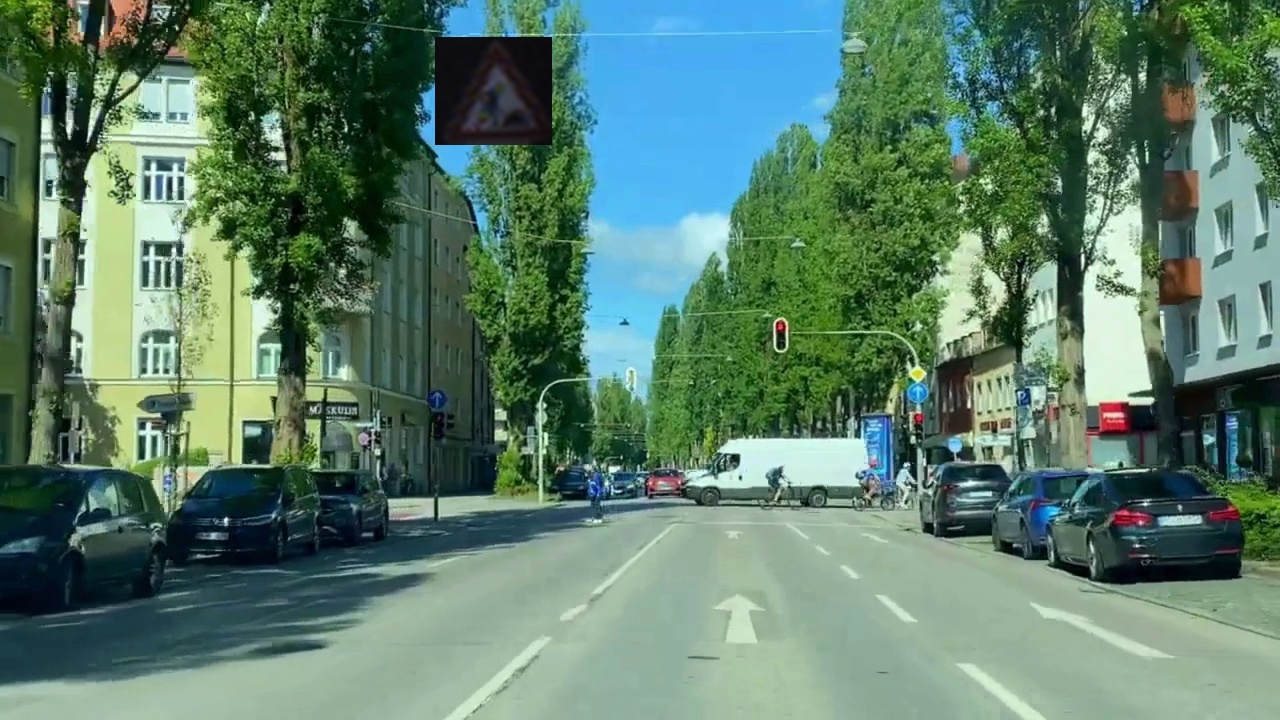Road work: (435, 37, 552, 145)
